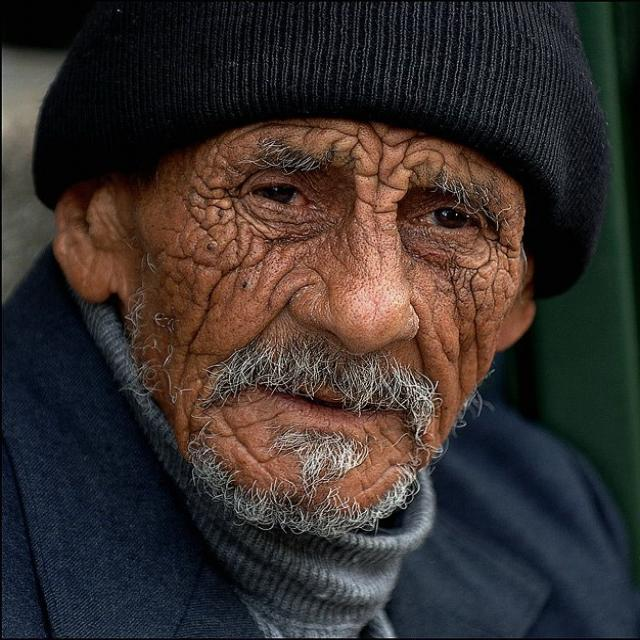earlobe: (69, 246, 114, 302), (499, 310, 527, 349)
eye: (248, 179, 315, 212), (413, 205, 480, 233)
nose: (292, 324, 418, 390)
wholeear: (52, 150, 123, 302)
